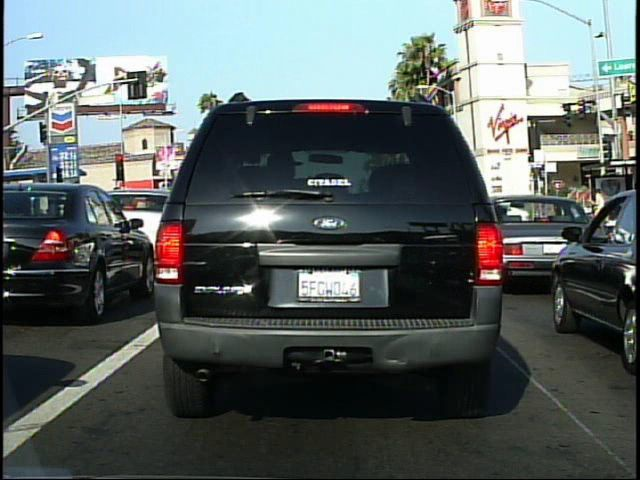person: (587, 183, 609, 242)
